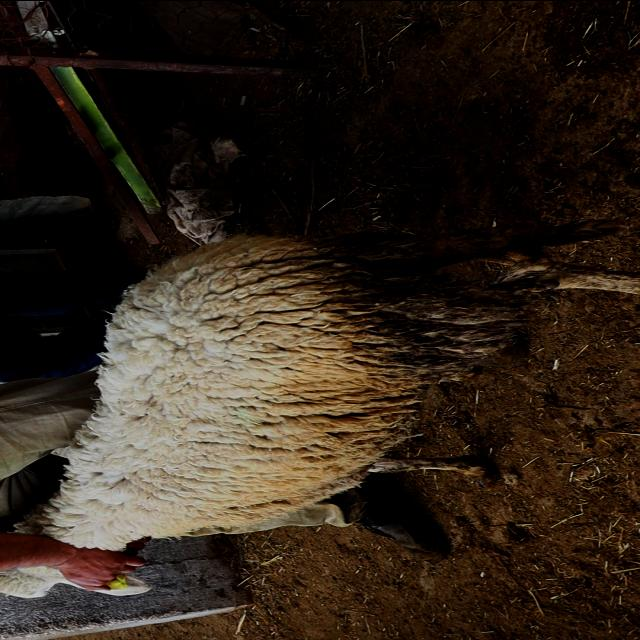Score_3: (15, 220, 639, 550)
